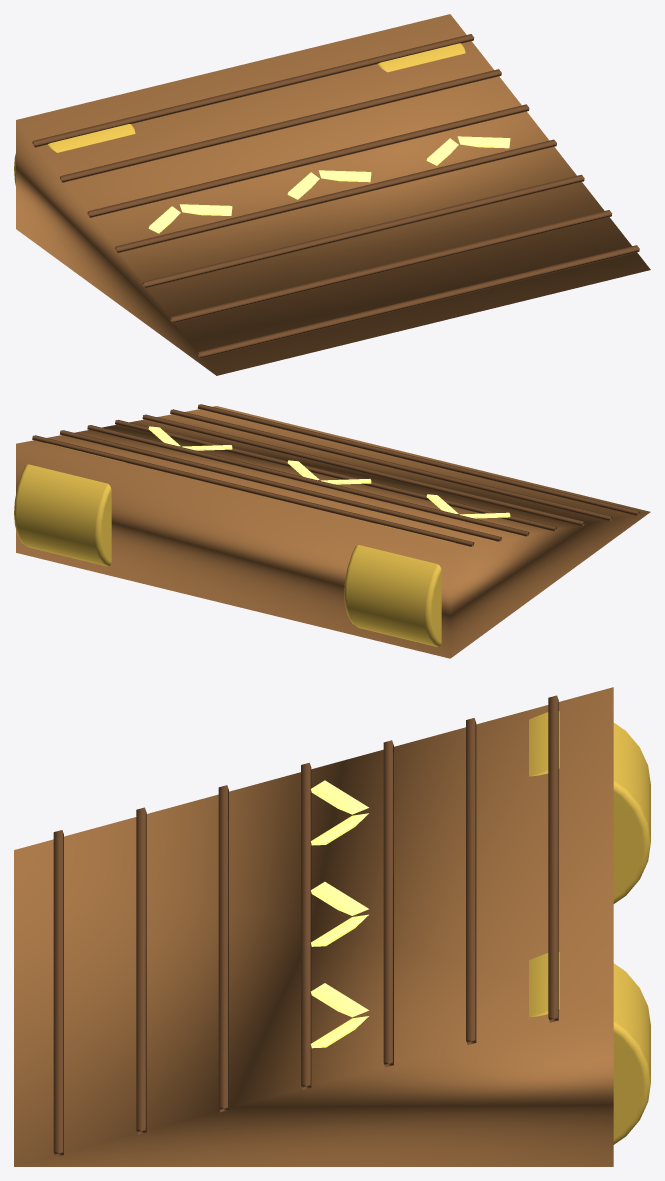
The model's file is ramp_mobile.glb.
The picture shows the model from 3 angles, top to bottom: view 1: azimuth 30°, elevation 25°; view 2: azimuth 150°, elevation 25°; view 3: azimuth 270°, elevation 25°; orthographic projection. The views are drawn at different scales.
Visible parts, largest first — view 1: Ramp; view 2: Ramp; view 3: Ramp.
Boxes of the visible parts, box(x1,y1,x2,y2) form: Ramp: box(14, 14, 650, 375); Ramp: box(14, 404, 650, 658); Ramp: box(14, 687, 650, 1166).
Bounding box in the file's own units: 5.05 × 1.2 × 4.25.
